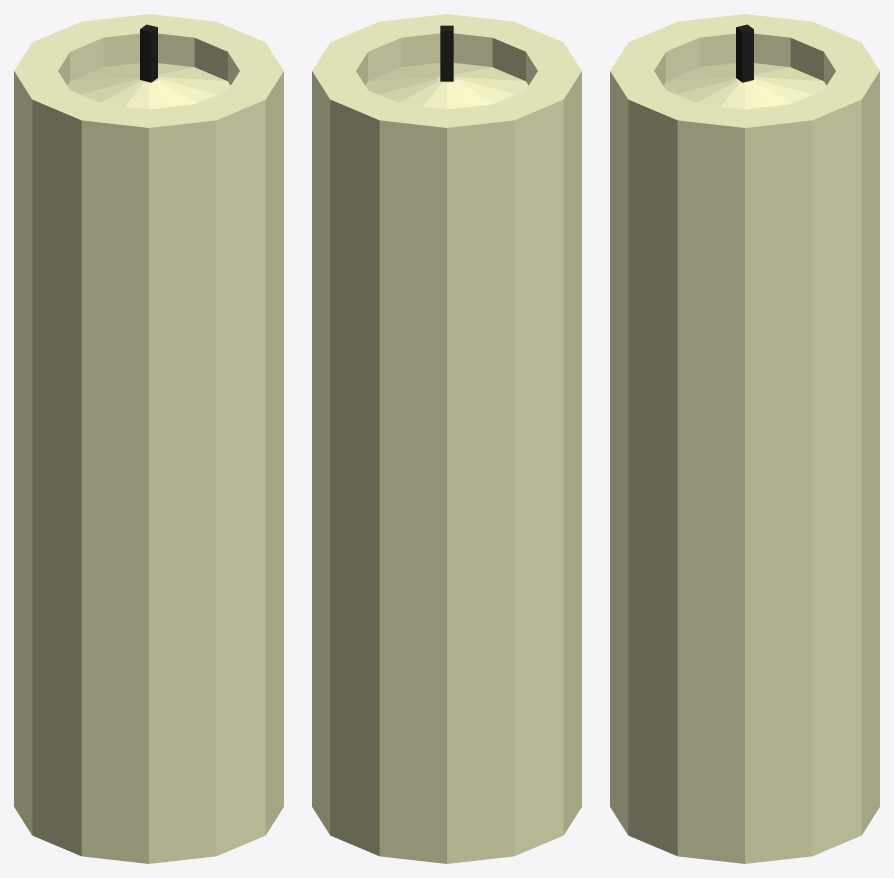
Rendered from Prop_Christmas_Ornament_Candle_01.FBX.
3 views of the same model, side by side, from view 1: azimuth 30°, elevation 25°; view 2: azimuth 150°, elevation 25°; view 3: azimuth 270°, elevation 25° (orthographic).
Visible parts, largest first — view 1: Prop_Christmas_Ornament_Candle_01; view 2: Prop_Christmas_Ornament_Candle_01; view 3: Prop_Christmas_Ornament_Candle_01.
Part boxes in pixels (x1,y1,x2,y2): Prop_Christmas_Ornament_Candle_01: [14, 14, 283, 863]; Prop_Christmas_Ornament_Candle_01: [312, 14, 581, 863]; Prop_Christmas_Ornament_Candle_01: [610, 14, 879, 863].
Bounding box in the file's own units: 102 × 323 × 102.
